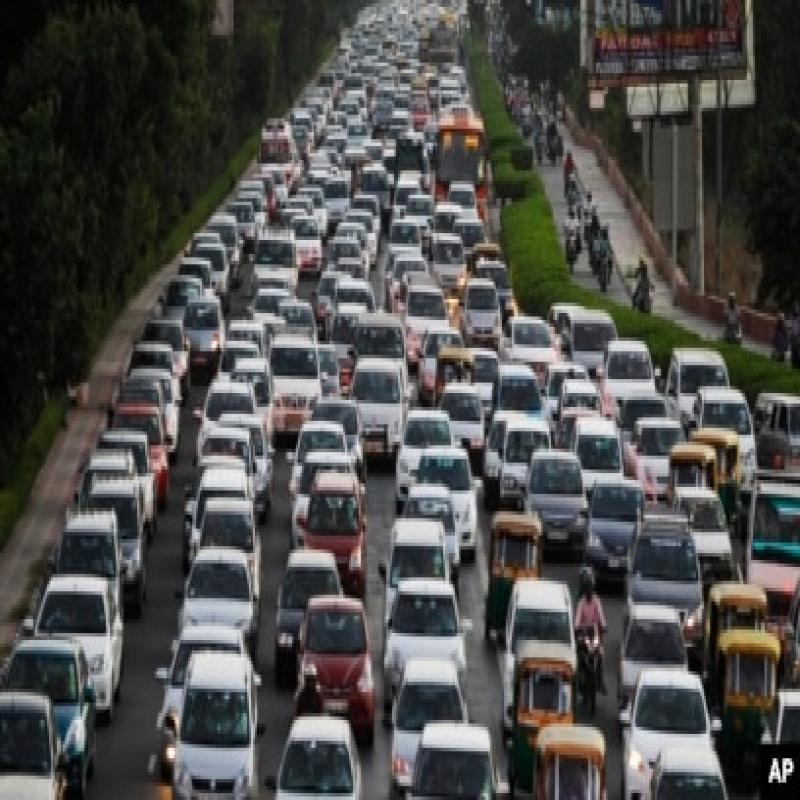car: (183, 651, 270, 800), (37, 560, 120, 705), (381, 560, 468, 686), (164, 624, 240, 754), (296, 583, 358, 741), (382, 647, 443, 800), (496, 571, 560, 716), (88, 463, 146, 601), (285, 699, 358, 800), (308, 479, 368, 599), (178, 545, 251, 635), (61, 498, 121, 602), (194, 463, 252, 570), (389, 512, 450, 607)
